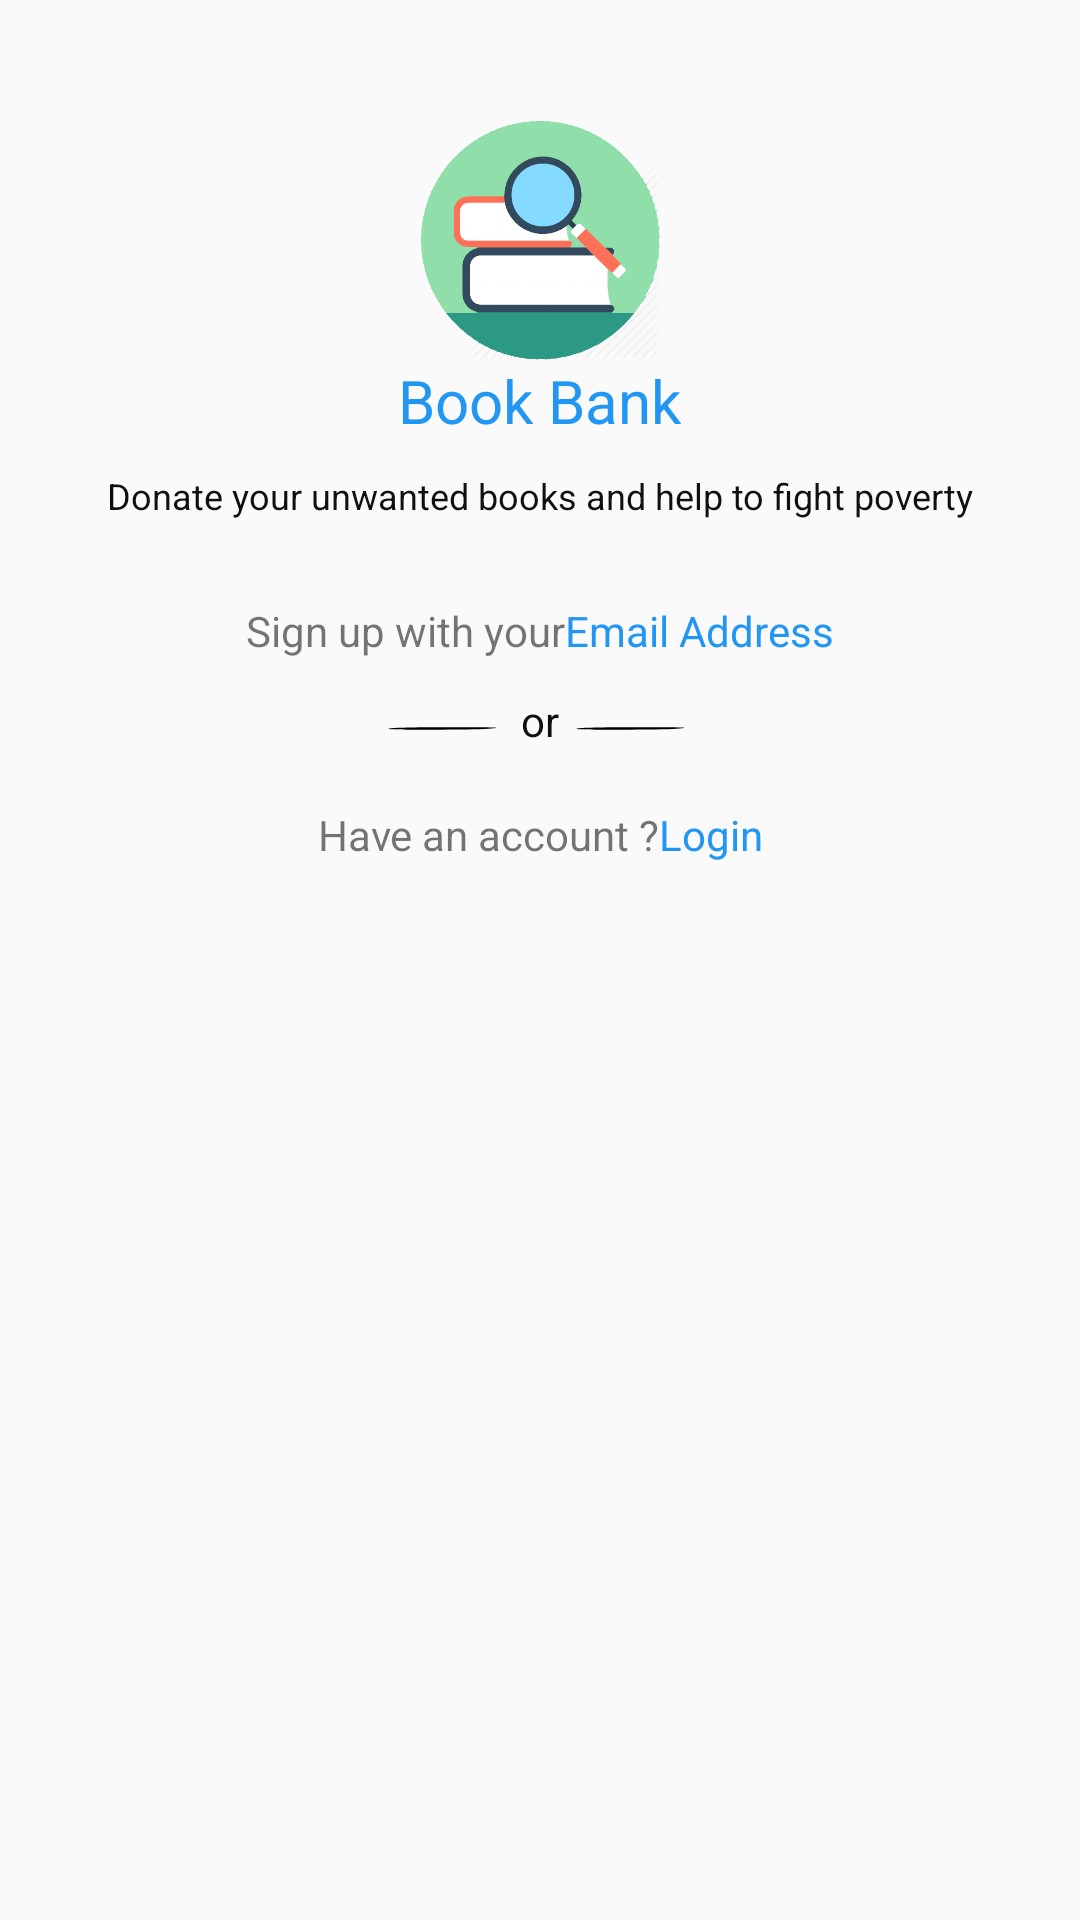

Icons on this 1080px x 1920px Android screen, each with the point to tap as (x,y):
app: (540,240)
